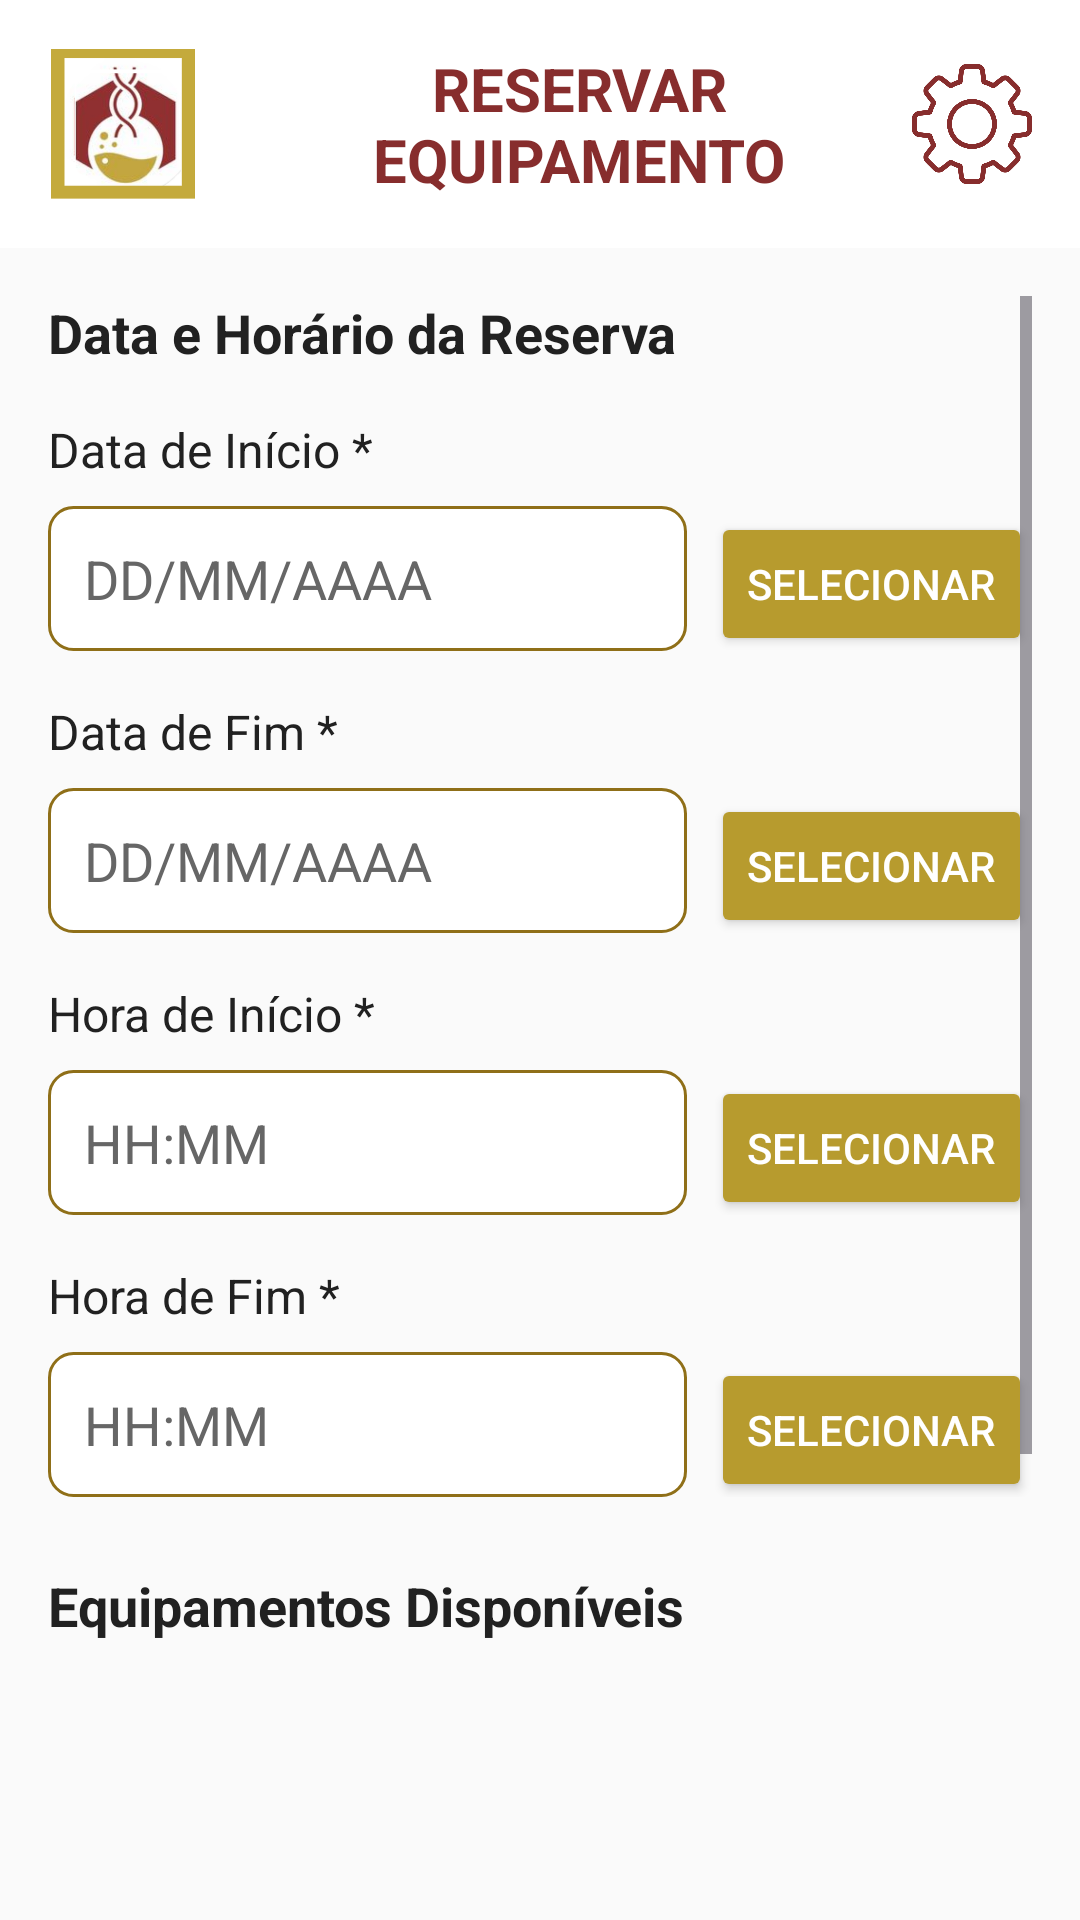

Icons on this 1080 x 1920 Android screen, each with its box as [left=x1, top=y1, right=x2, bottom=y2]:
Configurações: [left=912, top=64, right=1032, bottom=184]
